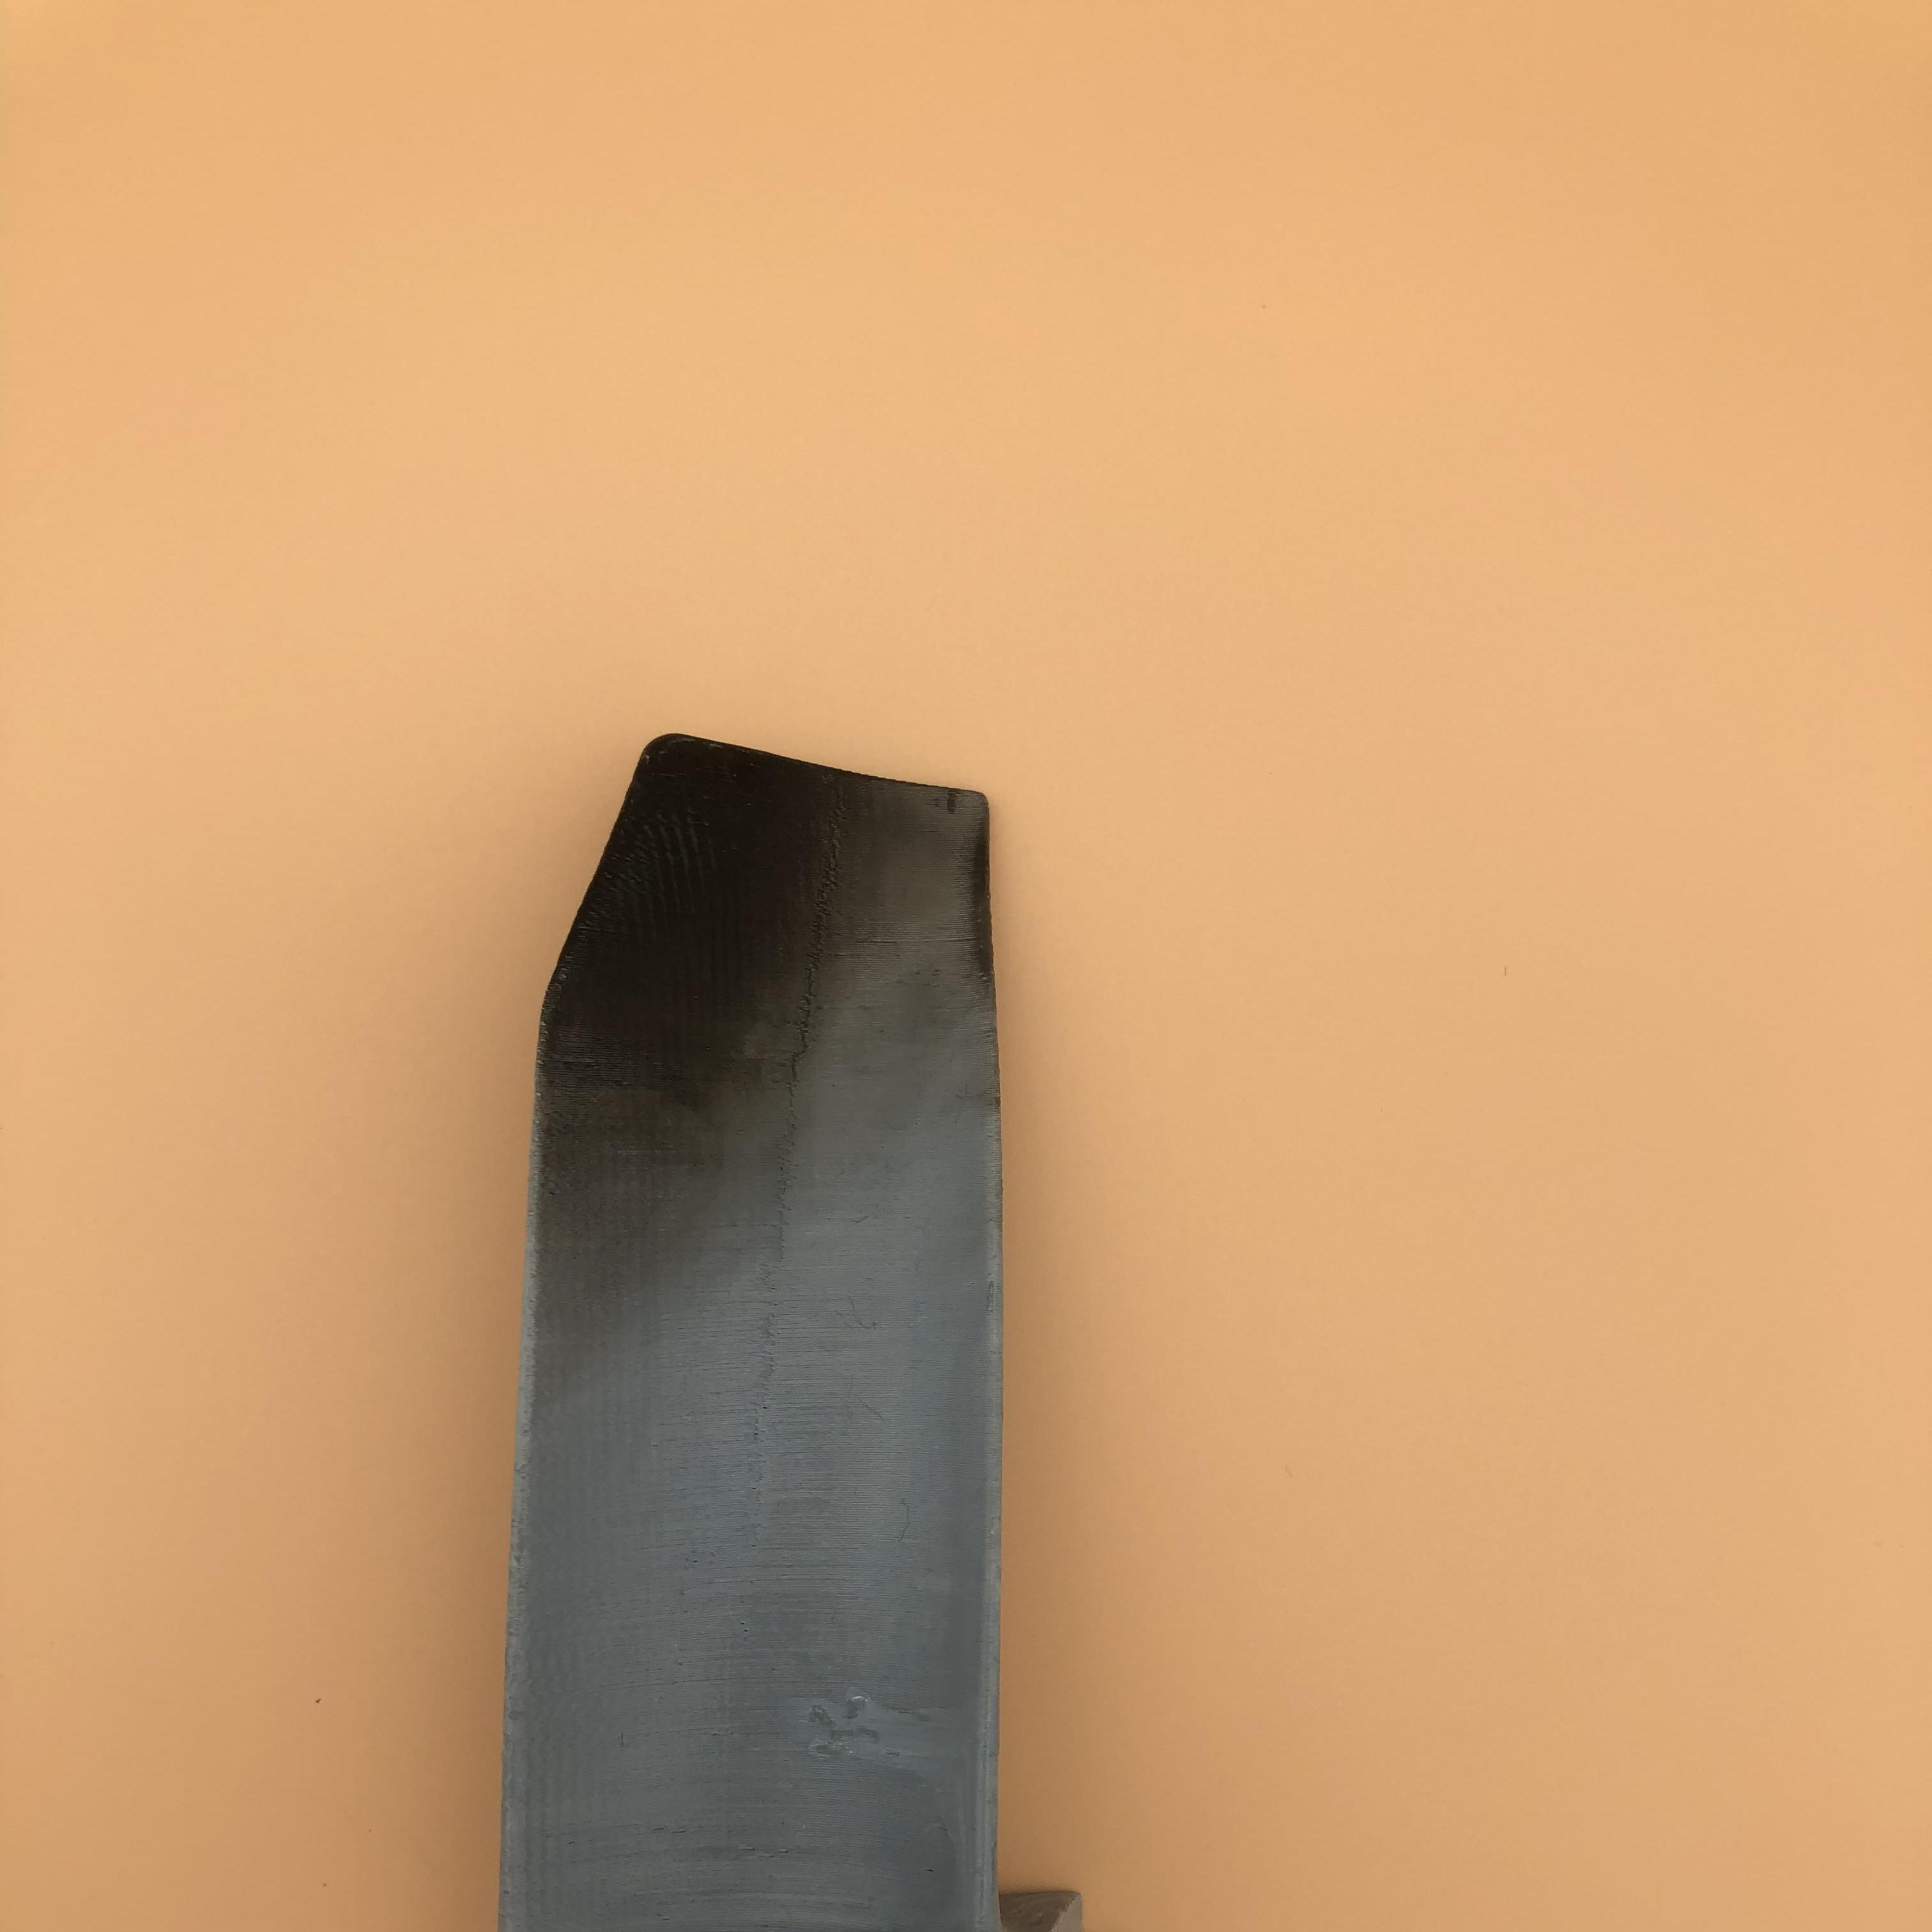ablation: (571, 775, 987, 1267)
